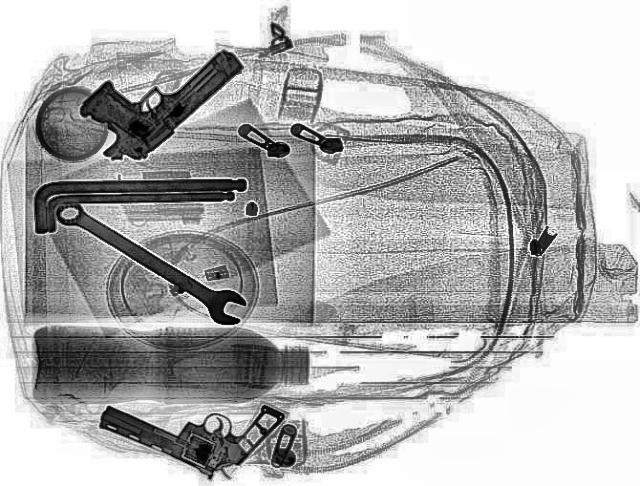Gun: (49, 19, 255, 171), (89, 353, 288, 482)
Wrench: (45, 192, 255, 328)
